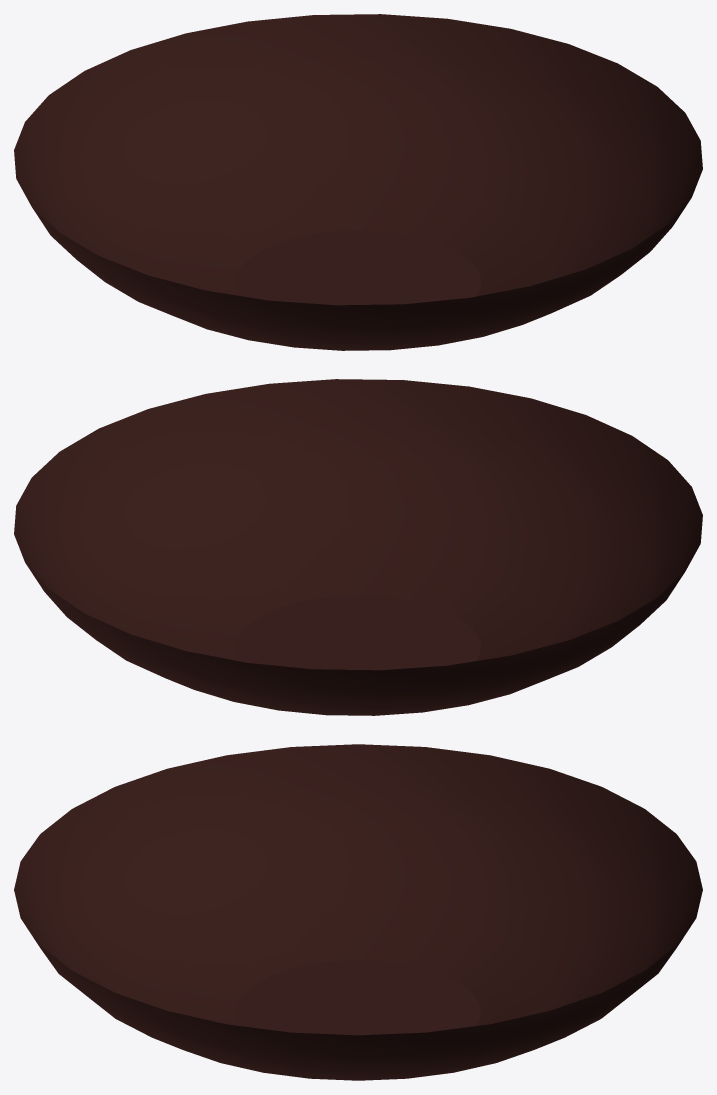
Rendered from ceiling_glass.FBX.
The picture shows the model from 3 angles, top to bottom: view 1: azimuth 30°, elevation 25°; view 2: azimuth 150°, elevation 25°; view 3: azimuth 270°, elevation 25°; orthographic projection.
Visible parts, largest first — view 1: ceiling_glass; view 2: ceiling_glass; view 3: ceiling_glass.
Part boxes in pixels (<box>): ceiling_glass: <box>14,14,702,350</box>; ceiling_glass: <box>14,379,702,715</box>; ceiling_glass: <box>14,744,702,1080</box>.
Bounding box in the file's own units: 1208 × 237 × 1208.
